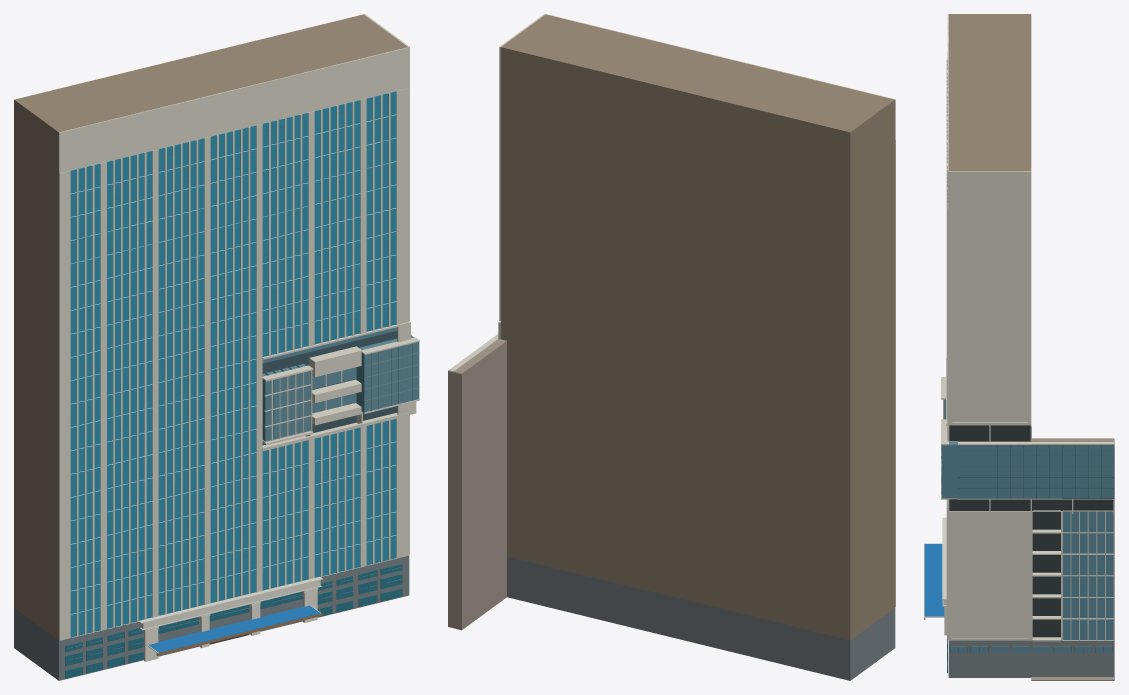
Rendered from light.glb.
3 views of the same model, side by side, from view 1: azimuth 30°, elevation 25°; view 2: azimuth 150°, elevation 25°; view 3: azimuth 270°, elevation 25° (orthographic). The views are drawn at different scales.
Visible parts, largest first — view 1: Xuguang_OBSERVED_blue_glass_approx_color, Xuguang_OBSERVED_warm_offwhite_frame, F_CORE_ABOVE8_UNCHANGED_SURFACES_NEW_BOTTOM_CAP, Xuguang_APPROX_blue_glass, G_gray_commercial_stone_proxy, G_visible_blue_glass_closed_proxy, G_white_portal_visible, G_canopy_blue_proxy, Xuguang_OBSERVED_eight_darker_vertical_bands, Xuguang_OBSERVED_dark_fine_transom, Xuguang_OBSERVED_fine_mullions_not_coarse_bands, G_window_frame; view 2: F_CORE_ABOVE8_UNCHANGED_SURFACES_NEW_BOTTOM_CAP, G_gray_commercial_stone_proxy, H_UNKNOWN_inner_and_rear_technical_closure, Xuguang_OBSERVED_warm_offwhite_frame; view 3: Xuguang_OBSERVED_warm_offwhite_frame, Xuguang_APPROX_blue_glass, F_CORE_ABOVE8_UNCHANGED_SURFACES_NEW_BOTTOM_CAP, H_visible_recess_dark_backing_NOT_INTERIOR, G_gray_commercial_stone_proxy, Xuguang_OBSERVED_dark_fine_transom, G_canopy_blue_proxy, H_UNKNOWN_inner_and_rear_technical_closure, G_white_portal_visible.
Boxes of the visible parts, bbox=[...] form: Xuguang_OBSERVED_blue_glass_approx_color: bbox=[70, 91, 396, 637]; Xuguang_OBSERVED_warm_offwhite_frame: bbox=[59, 14, 419, 640]; F_CORE_ABOVE8_UNCHANGED_SURFACES_NEW_BOTTOM_CAP: bbox=[14, 14, 407, 639]; Xuguang_APPROX_blue_glass: bbox=[262, 327, 419, 441]; G_gray_commercial_stone_proxy: bbox=[14, 555, 409, 680]; G_visible_blue_glass_closed_proxy: bbox=[65, 564, 401, 678]; G_white_portal_visible: bbox=[138, 576, 322, 661]; G_canopy_blue_proxy: bbox=[148, 605, 320, 652]; Xuguang_OBSERVED_eight_darker_vertical_bands: bbox=[262, 331, 397, 445]; Xuguang_OBSERVED_dark_fine_transom: bbox=[71, 108, 395, 628]; Xuguang_OBSERVED_fine_mullions_not_coarse_bands: bbox=[364, 343, 419, 410]; G_window_frame: bbox=[65, 564, 402, 678]; F_CORE_ABOVE8_UNCHANGED_SURFACES_NEW_BOTTOM_CAP: bbox=[501, 14, 895, 640]; G_gray_commercial_stone_proxy: bbox=[507, 556, 895, 680]; H_UNKNOWN_inner_and_rear_technical_closure: bbox=[448, 339, 506, 630]; Xuguang_OBSERVED_warm_offwhite_frame: bbox=[448, 14, 895, 606]; Xuguang_OBSERVED_warm_offwhite_frame: bbox=[941, 14, 1113, 641]; Xuguang_APPROX_blue_glass: bbox=[941, 399, 1113, 652]; F_CORE_ABOVE8_UNCHANGED_SURFACES_NEW_BOTTOM_CAP: bbox=[948, 14, 1031, 441]; H_visible_recess_dark_backing_NOT_INTERIOR: bbox=[949, 425, 1113, 637]; G_gray_commercial_stone_proxy: bbox=[948, 640, 1113, 677]; Xuguang_OBSERVED_dark_fine_transom: bbox=[950, 445, 1114, 652]; G_canopy_blue_proxy: bbox=[924, 544, 944, 616]; H_UNKNOWN_inner_and_rear_technical_closure: bbox=[1031, 438, 1114, 680]; G_white_portal_visible: bbox=[924, 517, 946, 635].
Size of the model in its own units: 73.61 by 108 by 36.86.
